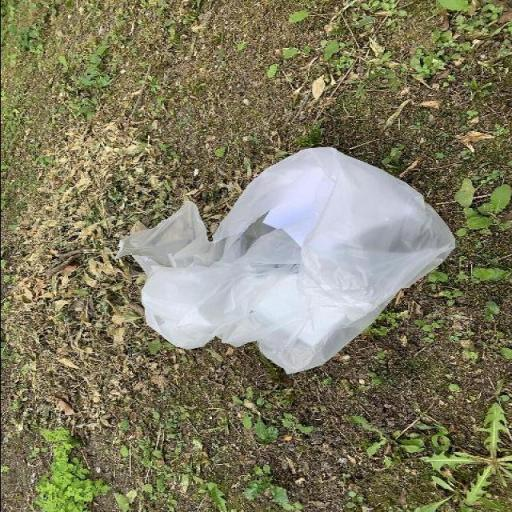plastic-bag: (112, 145, 461, 376)
